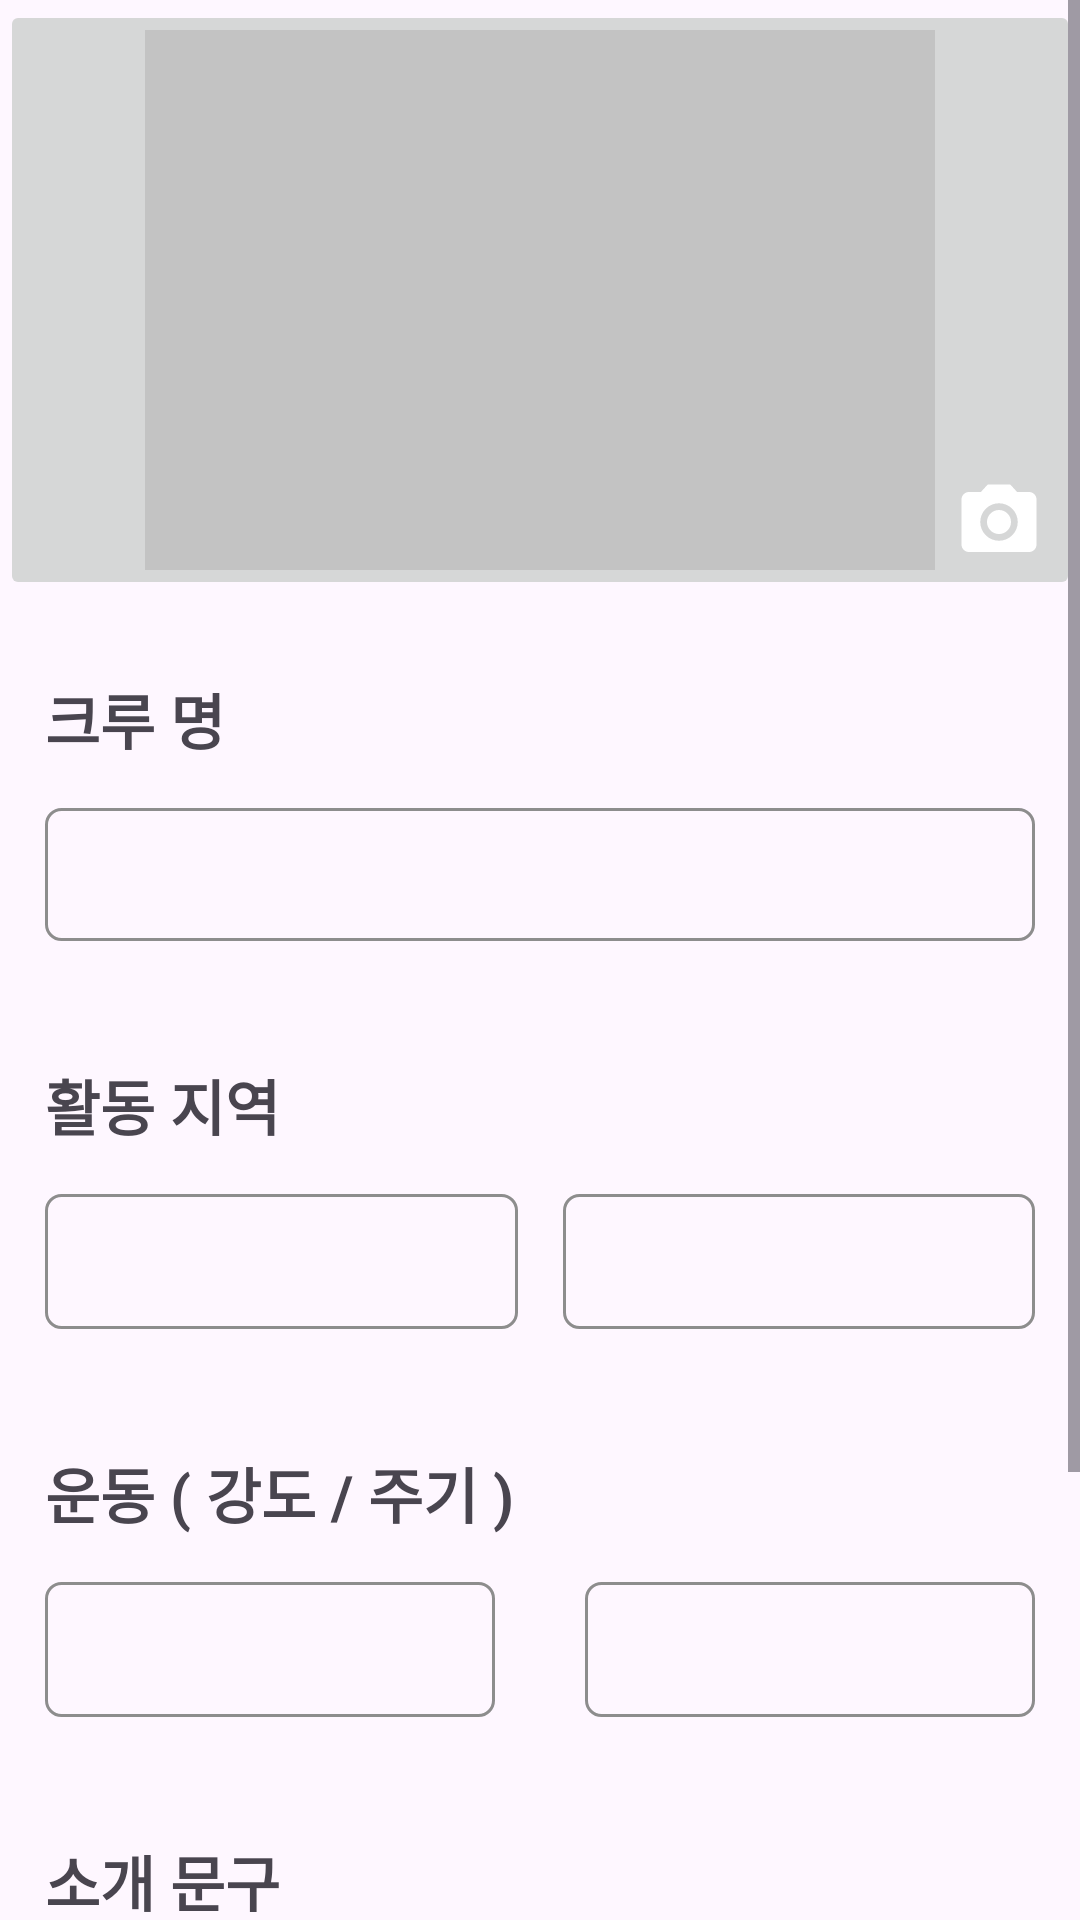

Where icons sit on this 1080*1920 app screen, as (x1, y1, x2, y2):
photo camera: (962, 485, 1036, 552)
